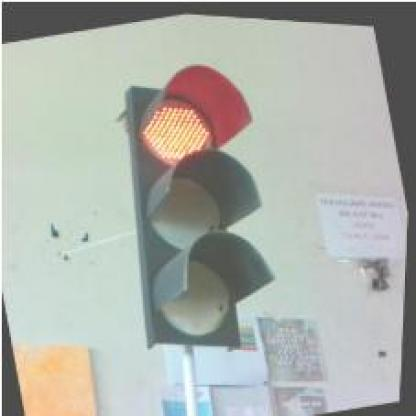red: (88, 47, 304, 360)
